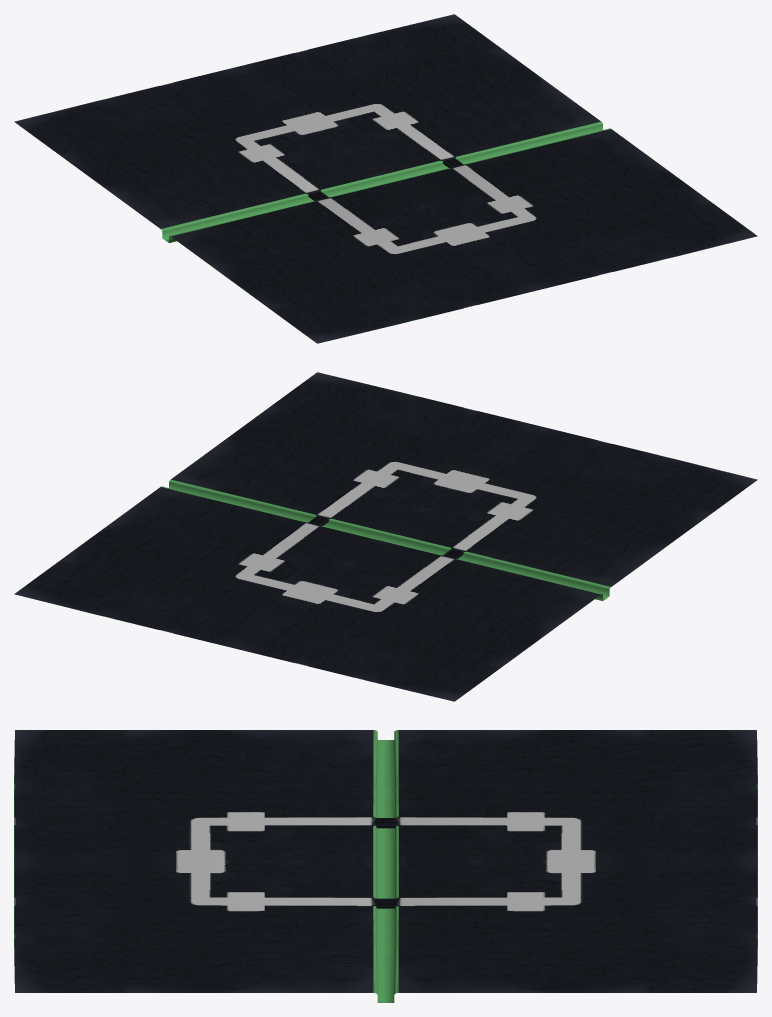
Rendered from sample platfor for placement.fbx.
The picture shows the model from 3 angles, top to bottom: view 1: azimuth 30°, elevation 25°; view 2: azimuth 150°, elevation 25°; view 3: azimuth 270°, elevation 25°; orthographic projection. The views are drawn at different scales.
Visible parts, largest first — view 1: Plane.001; view 2: Plane.001; view 3: Plane.001.
Boxes of the visible parts, x1,y1,x2,y2 form: Plane.001: (14, 14, 757, 343); Plane.001: (14, 372, 757, 701); Plane.001: (14, 730, 757, 1002).
Bounding box in the file's own units: 28983 × 501 × 34647.
